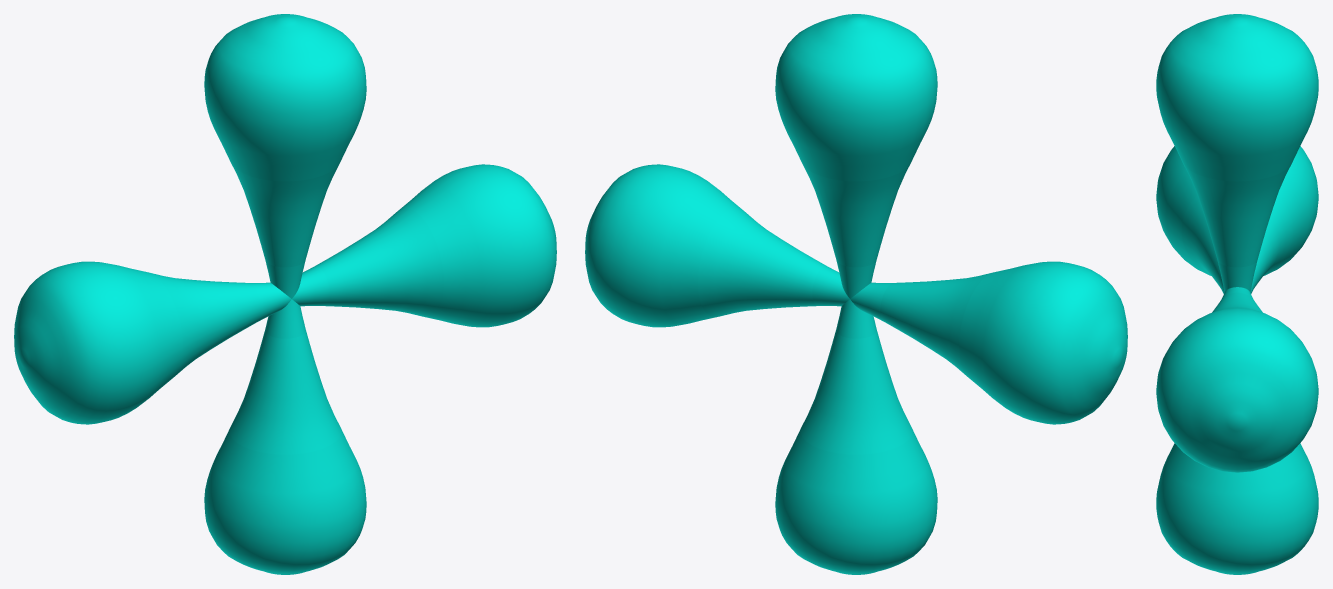
Rendered from para 2 y 1.fbx.
The picture shows the model from 3 angles, left to right: view 1: azimuth 30°, elevation 25°; view 2: azimuth 150°, elevation 25°; view 3: azimuth 270°, elevation 25°; orthographic projection.
Visible parts, largest first — view 1: Cylinder.001; view 2: Cylinder.001; view 3: Cylinder.001.
Part boxes in pixels (box(x1,y1,x2,y2)): Cylinder.001: box(14, 14, 556, 574); Cylinder.001: box(585, 14, 1127, 574); Cylinder.001: box(1156, 14, 1318, 574).
Bounding box in the file's own units: 14.9 × 14.9 × 3.99.
